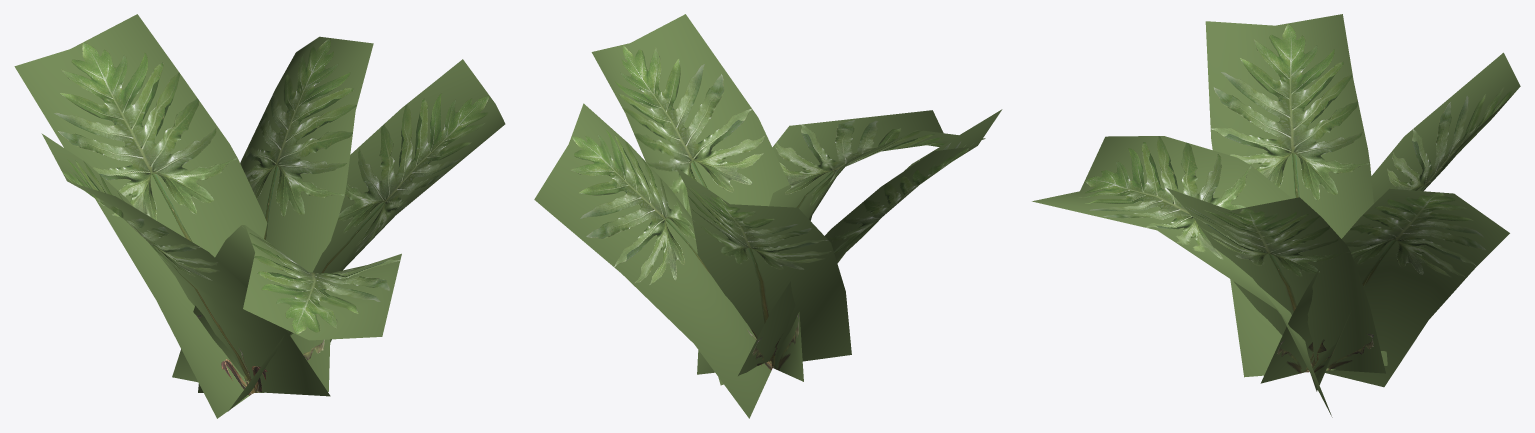
Rendered from Grass4.fbx.
3 views of the same model, side by side, from view 1: azimuth 30°, elevation 25°; view 2: azimuth 150°, elevation 25°; view 3: azimuth 270°, elevation 25° (orthographic). The views are drawn at different scales.
Visible parts, largest first — view 1: LOD0; view 2: LOD0; view 3: LOD0.
Boxes of the visible parts, x1=… form: LOD0: x1=14, y1=14, x2=505, y2=418; LOD0: x1=534, y1=14, x2=1002, y2=418; LOD0: x1=1032, y1=14, x2=1520, y2=417.
Size of what is drawn, in the model's own units: 1.89 by 1.43 by 2.13.
